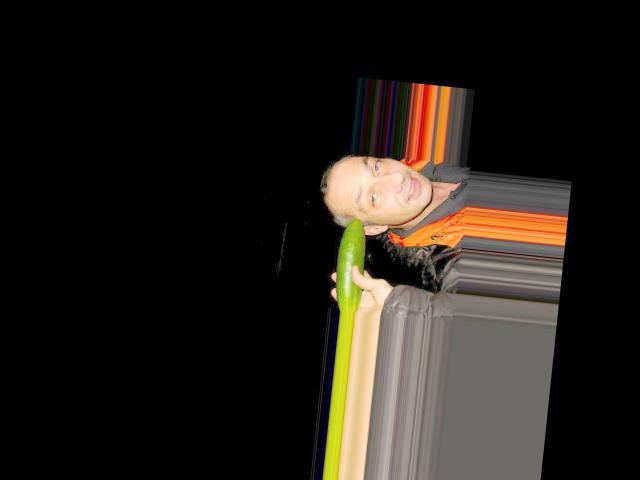cucumber: (332, 216, 368, 312)
